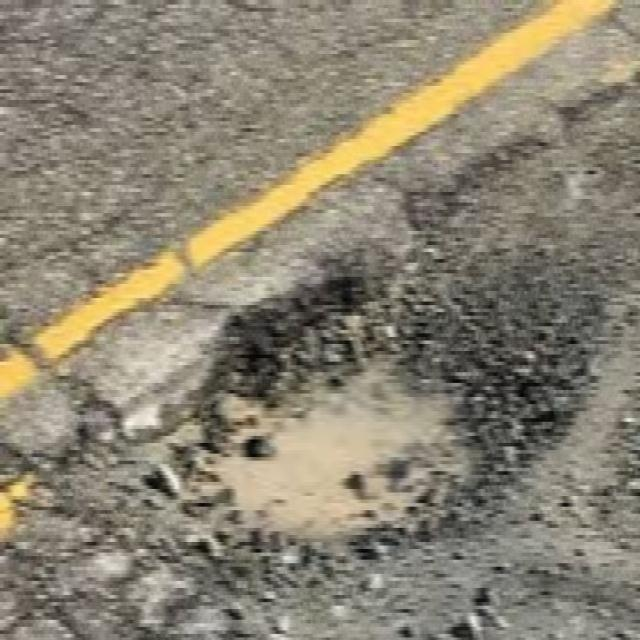Pothole: (144, 272, 548, 560)
